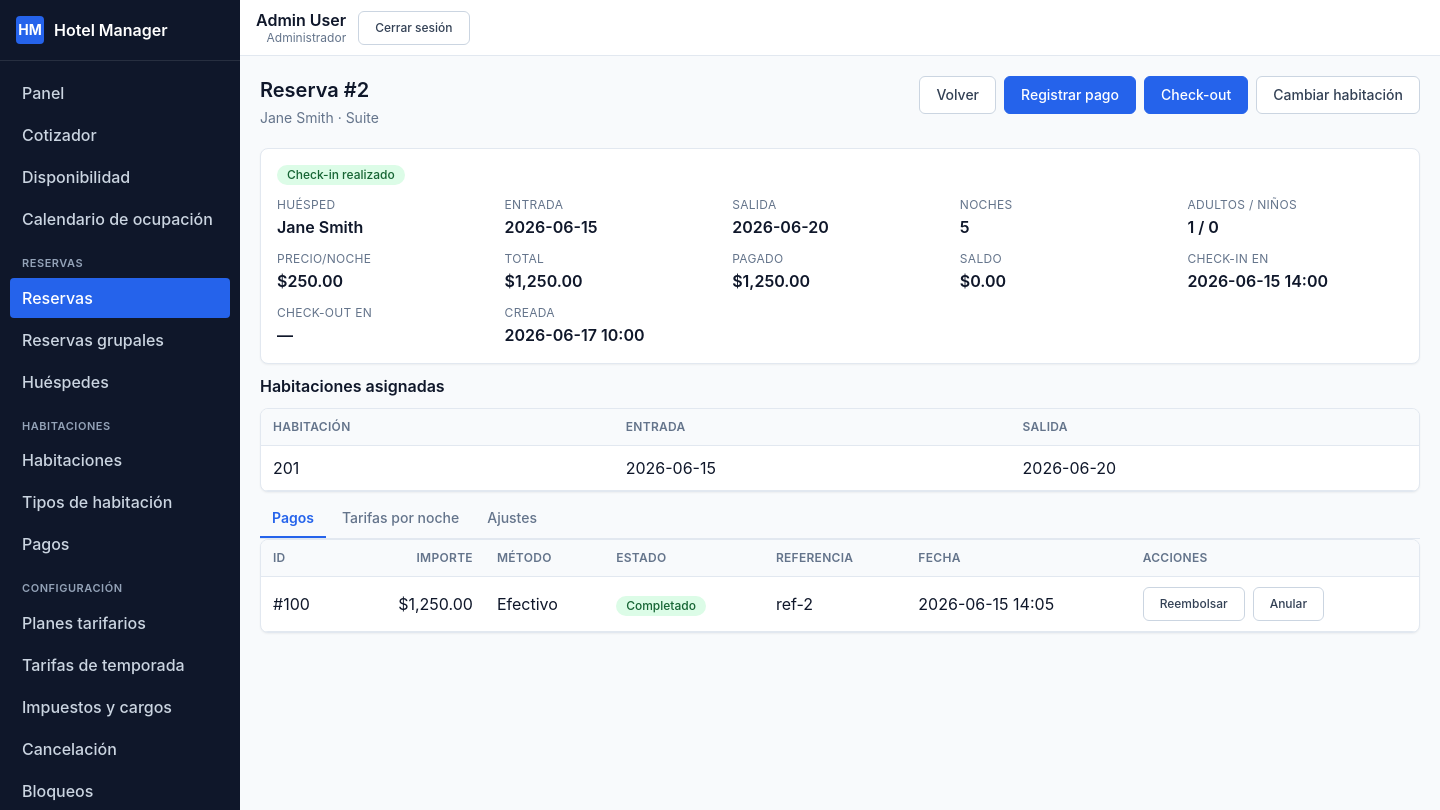
Scenario: ReservationDetailPage › realiza check-out de una reserva checked-in
Check: the heading "Reserva #2" is shown, box [260,76,379,104]
Click the button "Check-out": click(1196, 95) [1144,76,1248,114]
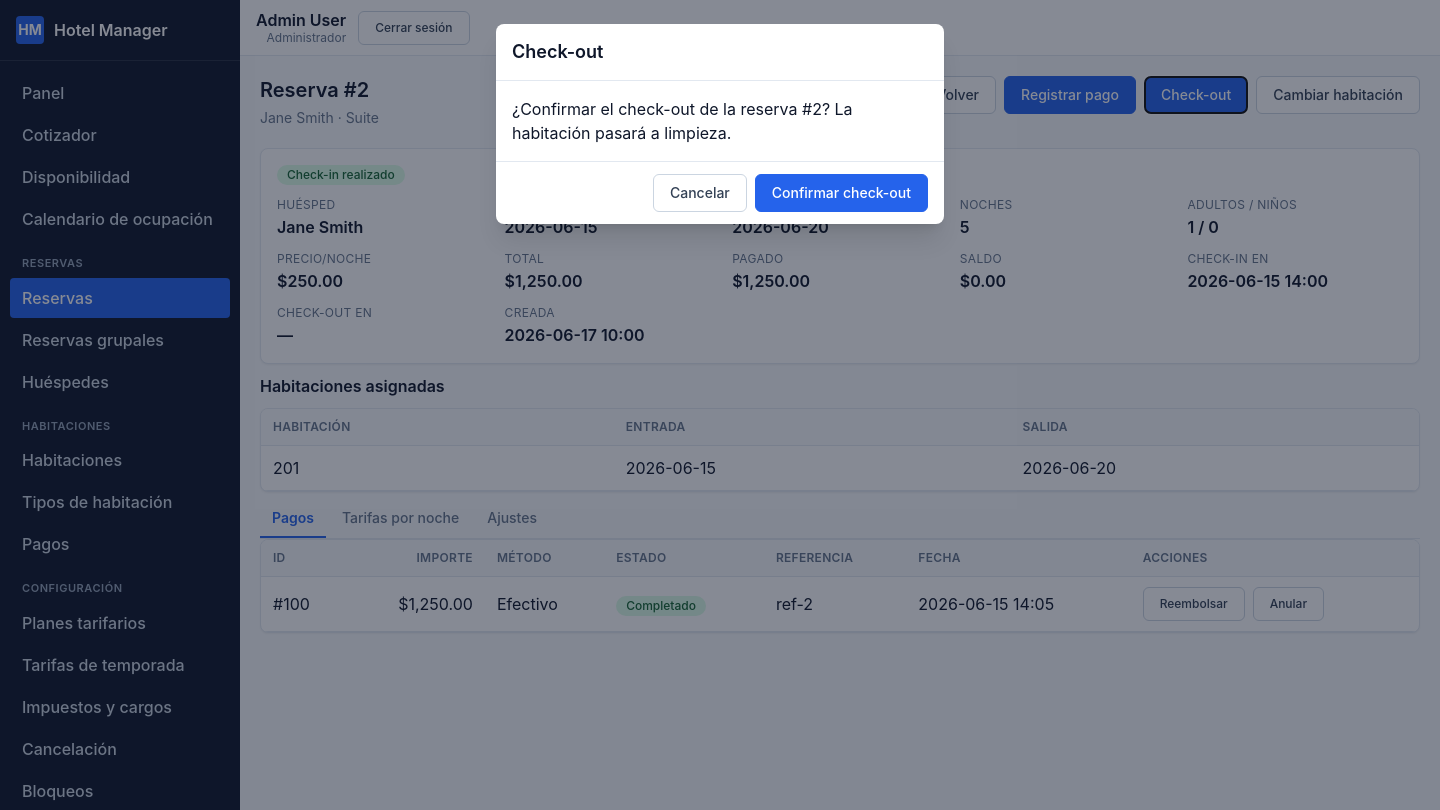
Check: the heading "Check-out" is shown, box [512,38,603,66]
Click the button "Confirmar check-out": click(841, 193) [755,174,928,212]
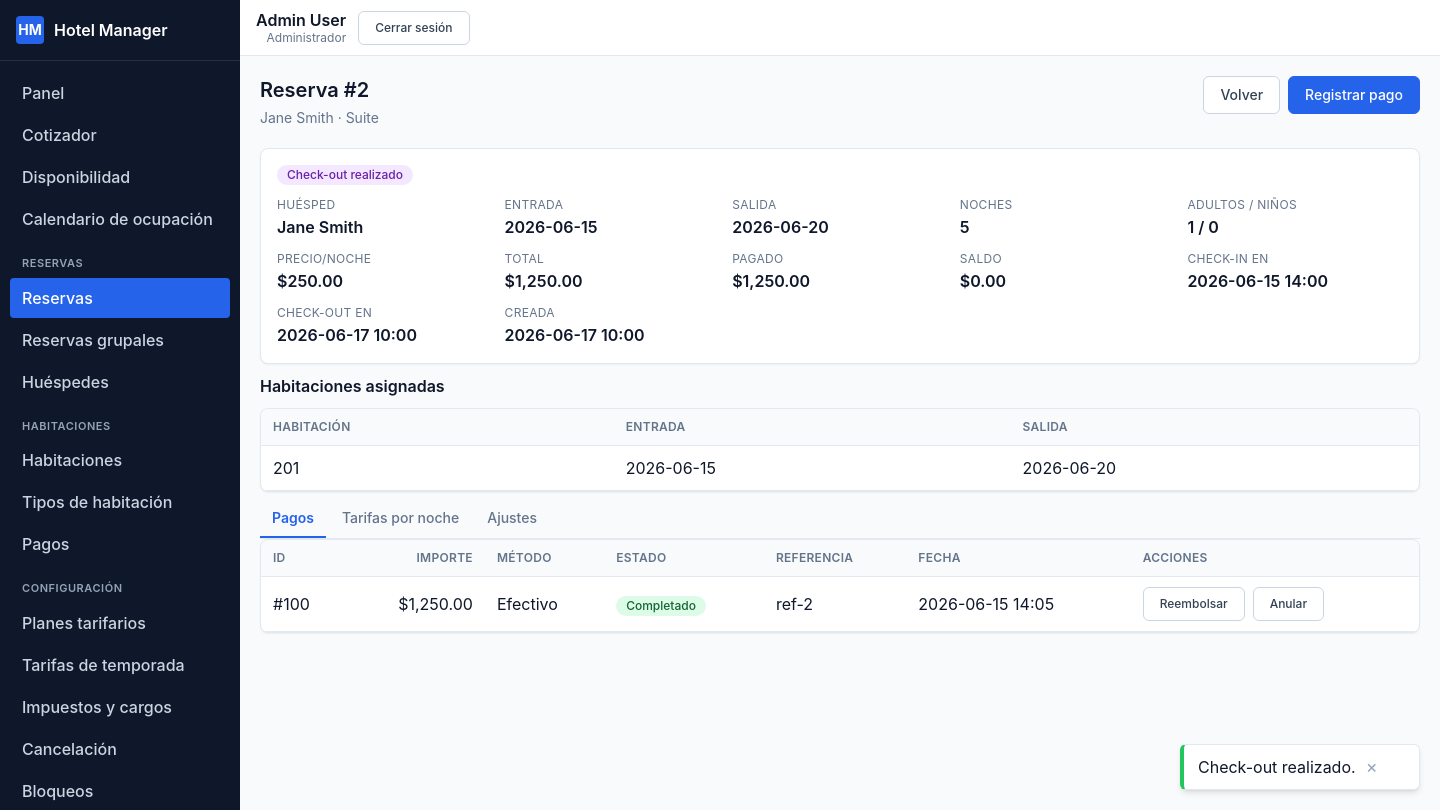
Check: the text "Check-out realizado." is shown, box [1198,755,1356,779]
Check: the text "Check-out realizado" is shown, box [277,165,413,185]
